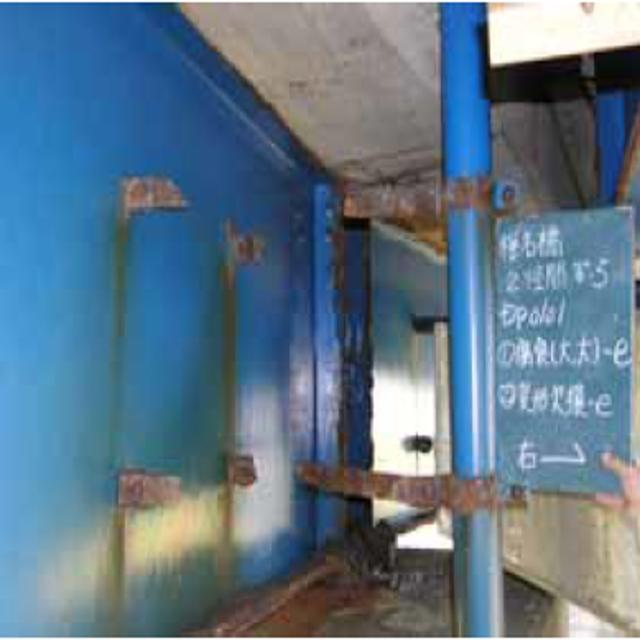corrosion: (103, 157, 281, 293), (96, 416, 267, 538), (290, 443, 531, 527), (317, 168, 529, 238)
